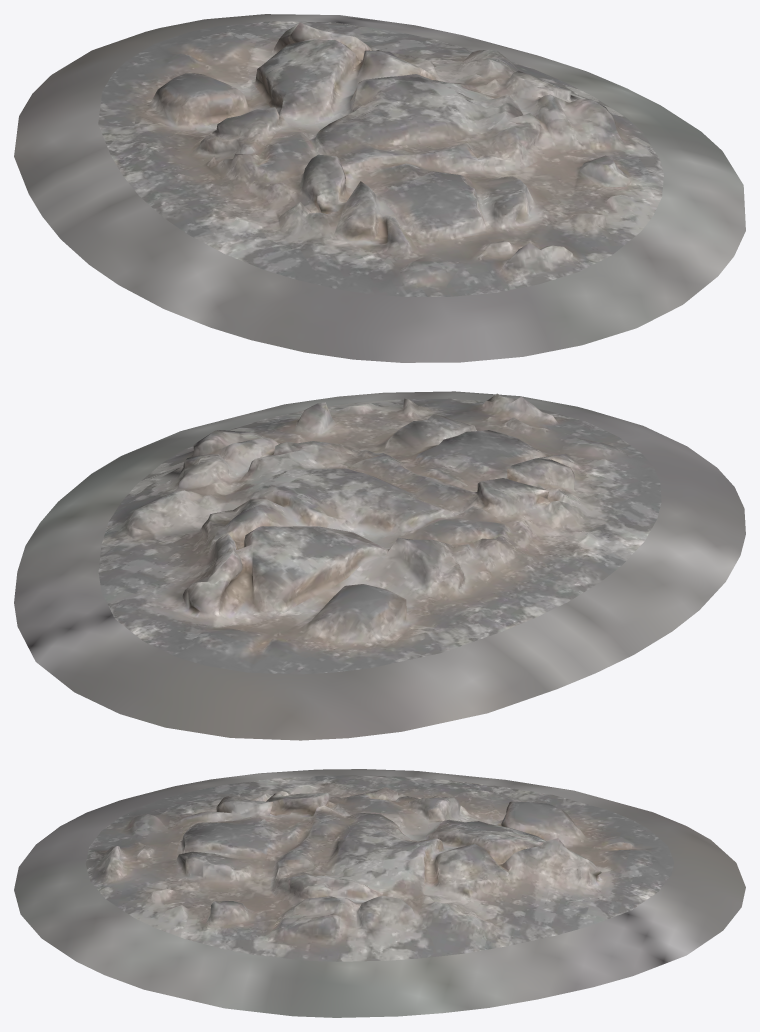
File: rock_formation_small_c.glb
The picture shows the model from 3 angles, top to bottom: view 1: azimuth 30°, elevation 25°; view 2: azimuth 150°, elevation 25°; view 3: azimuth 270°, elevation 25°; orthographic projection. The views are drawn at different scales.
Parts seen in each view (by area): view 1: rock_formation_small_c_LOD0; view 2: rock_formation_small_c_LOD0; view 3: rock_formation_small_c_LOD0.
Part boxes in pixels (x1,y1,x2,y2): rock_formation_small_c_LOD0: (14,14,745,362); rock_formation_small_c_LOD0: (14,391,745,740); rock_formation_small_c_LOD0: (14,769,745,1017).
Size of the model in its own units: 4.7 by 0.6179 by 5.88.
Materials: 1 (1 with a texture image).
